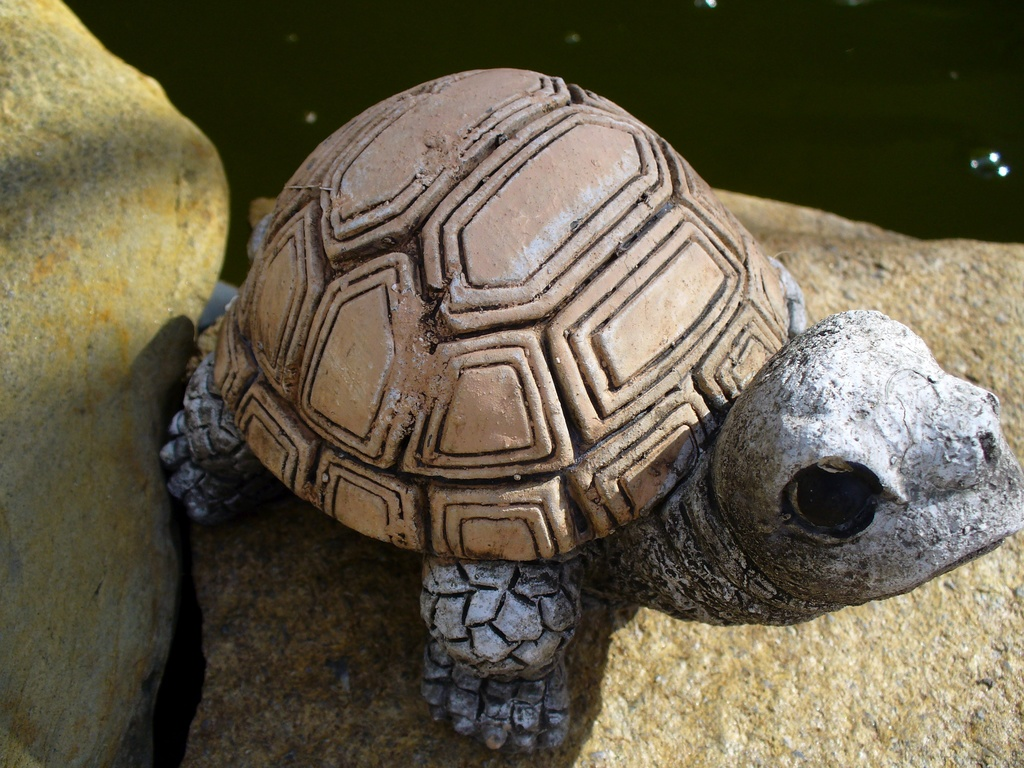Sea turtles: (163, 72, 1023, 758)
